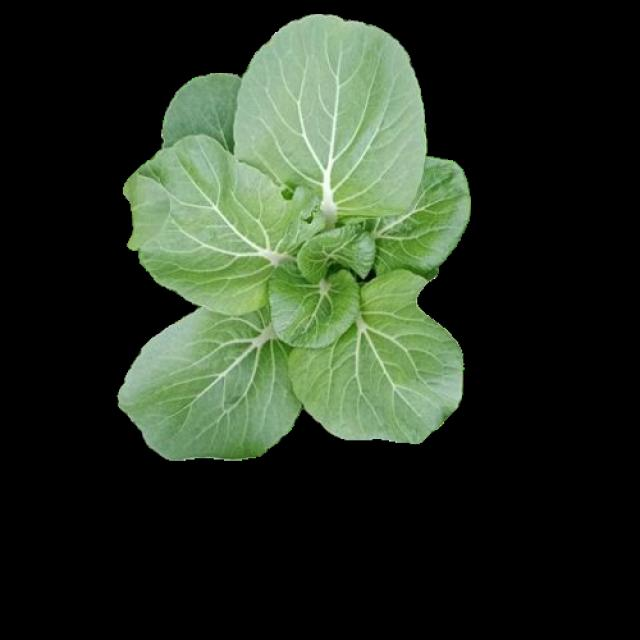mature: (117, 18, 467, 458)
unhealthy: (123, 133, 329, 315)
